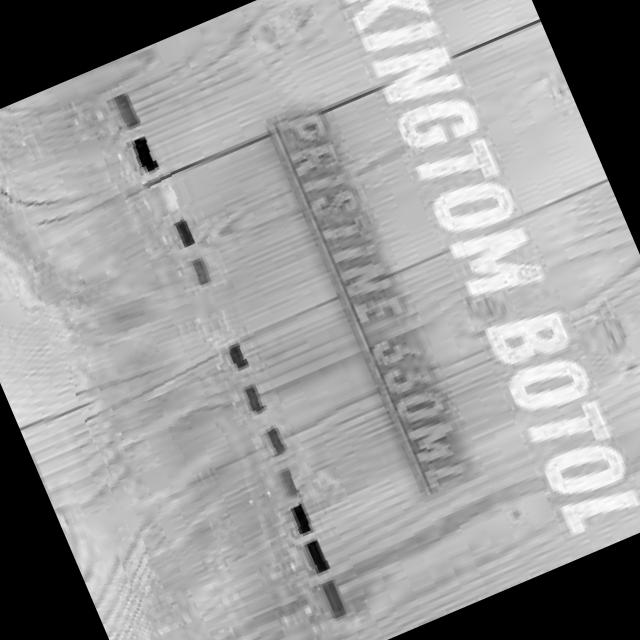plastic bottle: (104, 445, 323, 592), (6, 190, 217, 329), (0, 153, 195, 300), (88, 355, 285, 500), (101, 400, 302, 536), (58, 282, 254, 418), (0, 114, 172, 261), (130, 488, 323, 618), (73, 324, 265, 452), (36, 240, 225, 368), (132, 526, 342, 640), (0, 67, 149, 214), (138, 565, 363, 640)
